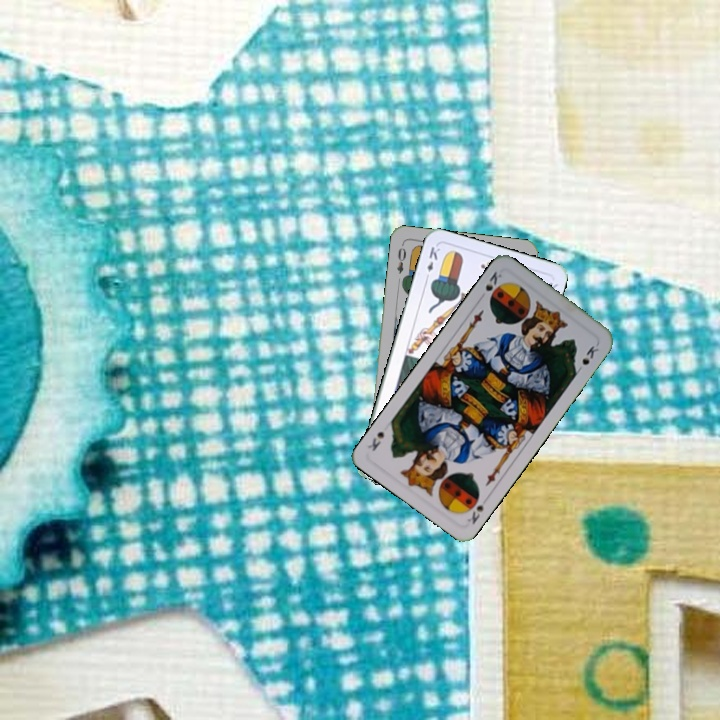EK: (422, 243, 443, 283)
EO: (393, 243, 409, 276)
SK: (463, 492, 490, 527), (481, 267, 504, 304)
